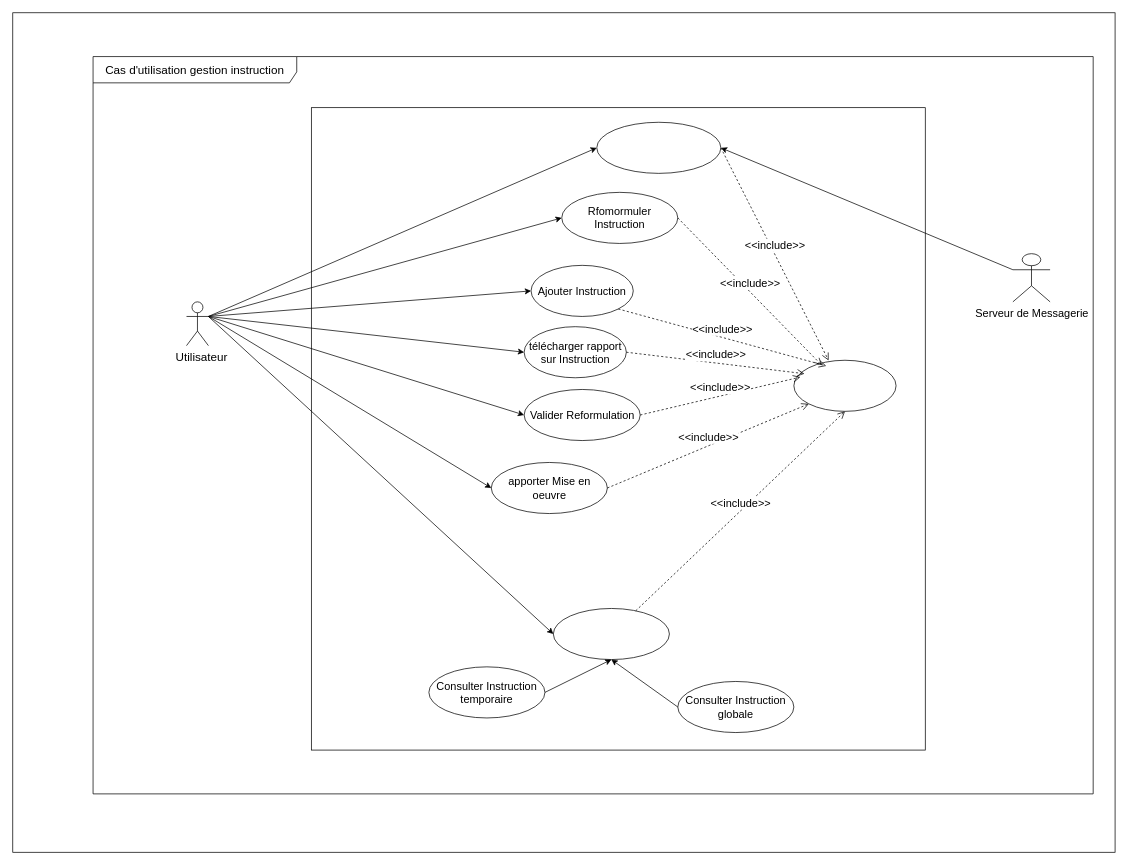
The diagram is 1128 pixels wide and 865 high, and some of its shapes have lost their labels. Here are the shapes that lost their labels. From the top down, the box of each, then its label:
(596, 122, 721, 173): Valider instruction
(793, 360, 896, 411): Se conecter
(553, 608, 669, 660): Consulter Instruction
